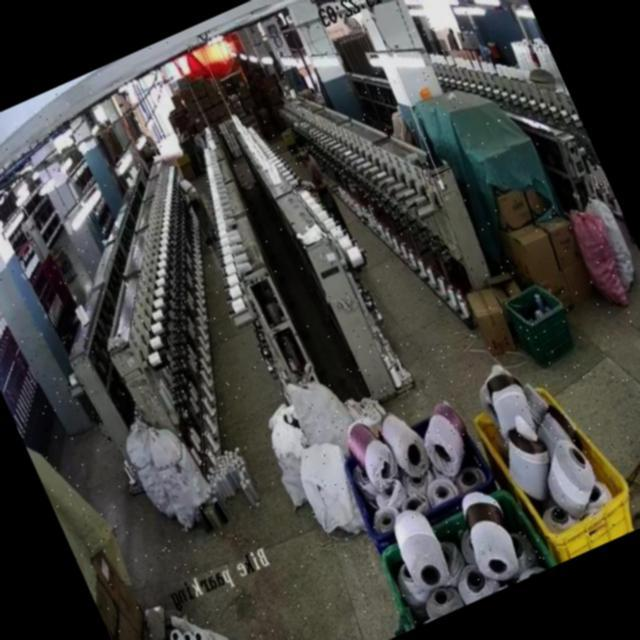person: (291, 132, 347, 231), (173, 172, 220, 246)
